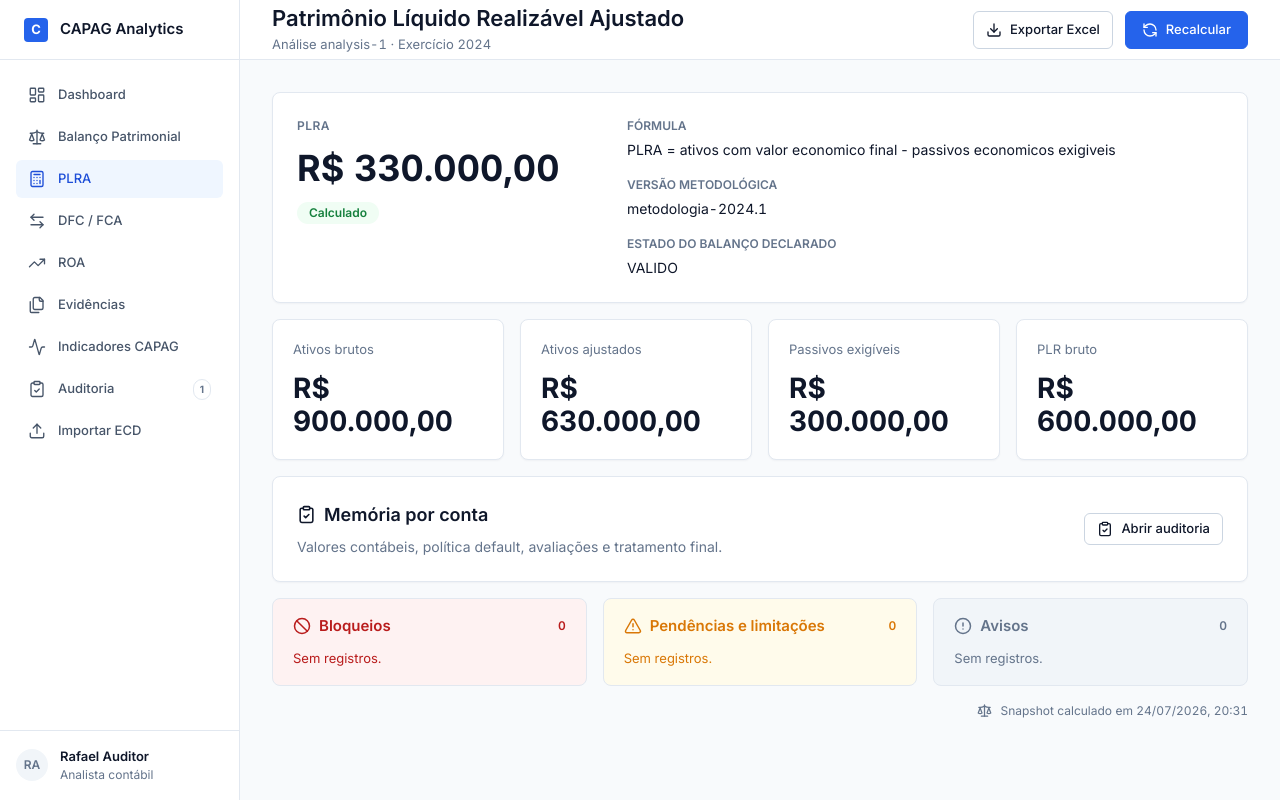
Test: PLRA route › opens account audit and identifies the internal default source
Expected: the text "R$ 330.000,00" is shown, [297,147,559,190]
What coordinates should you click on to do the following:
click the button "Abrir auditoria"
I would click on:
 (1154, 529)
Its box is [1084,513,1223,545].
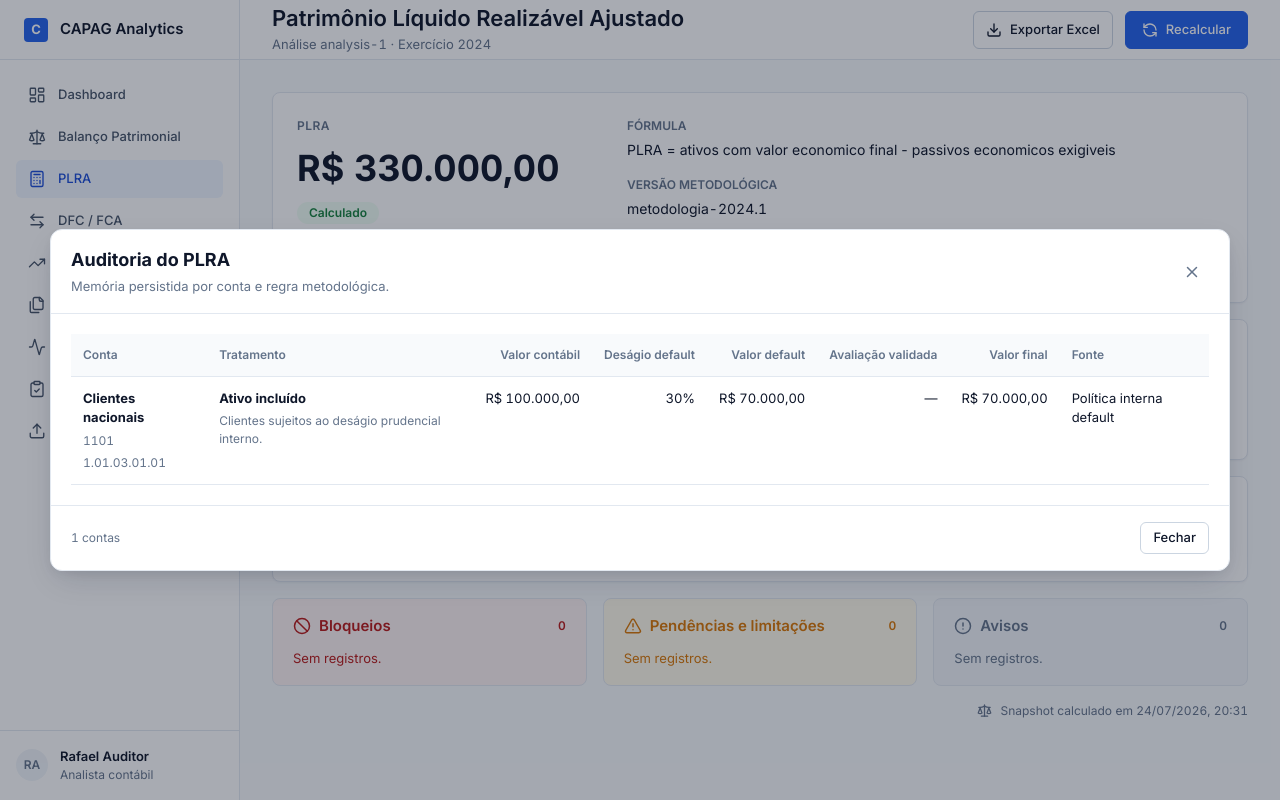
Expected: the dialog "Auditoria do PLRA" is shown, [50,229,1230,571]
Expected: the text "Clientes nacionais" is shown, [83,390,144,425]
Expected: the text "Política interna default" is shown, [1060,376,1209,484]
